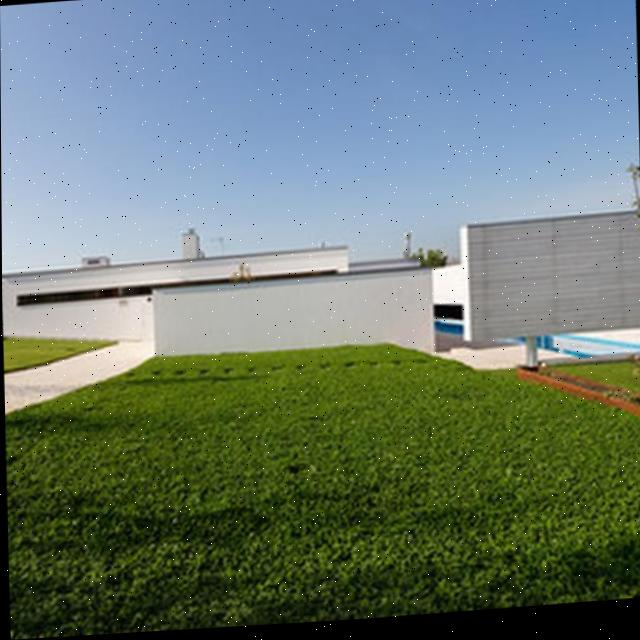building: (2, 210, 440, 398), (456, 195, 640, 349)
